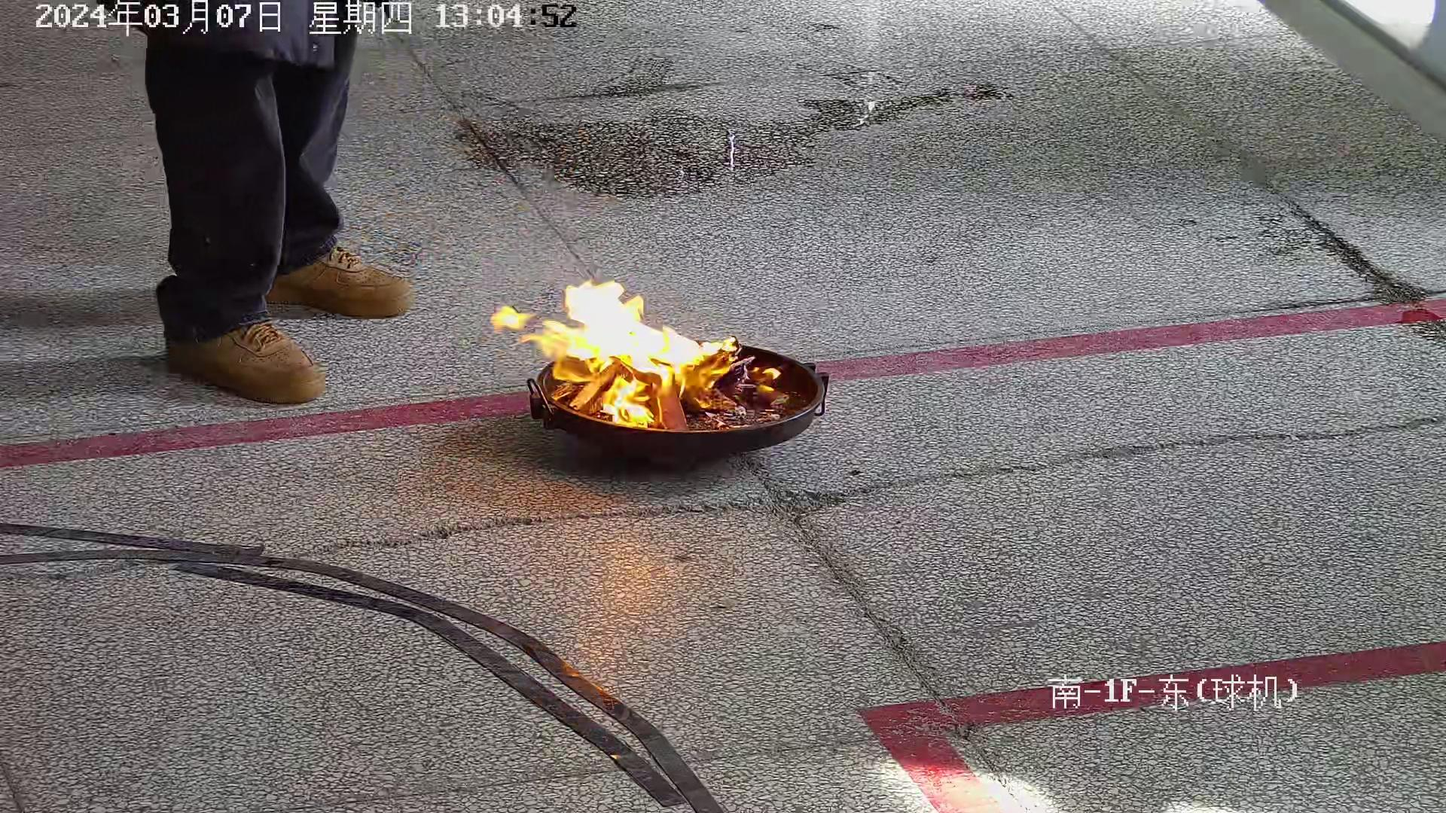fire: (521, 280, 789, 431)
